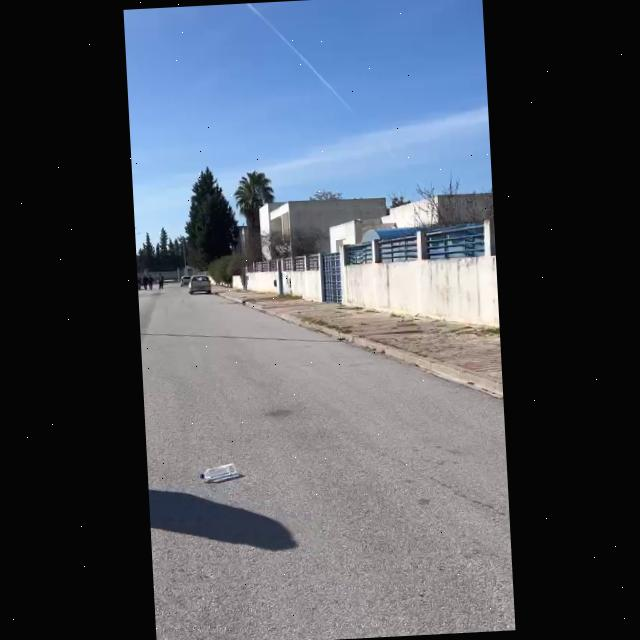trash: (196, 458, 240, 491)
